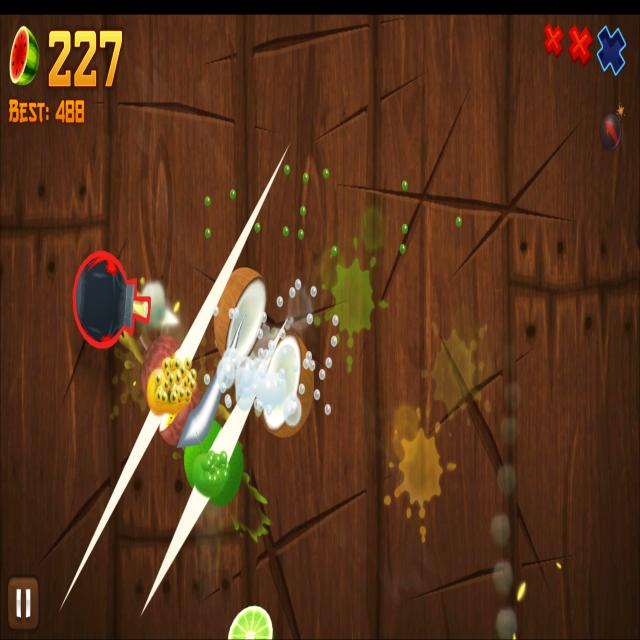bomb: (72, 247, 152, 350)
